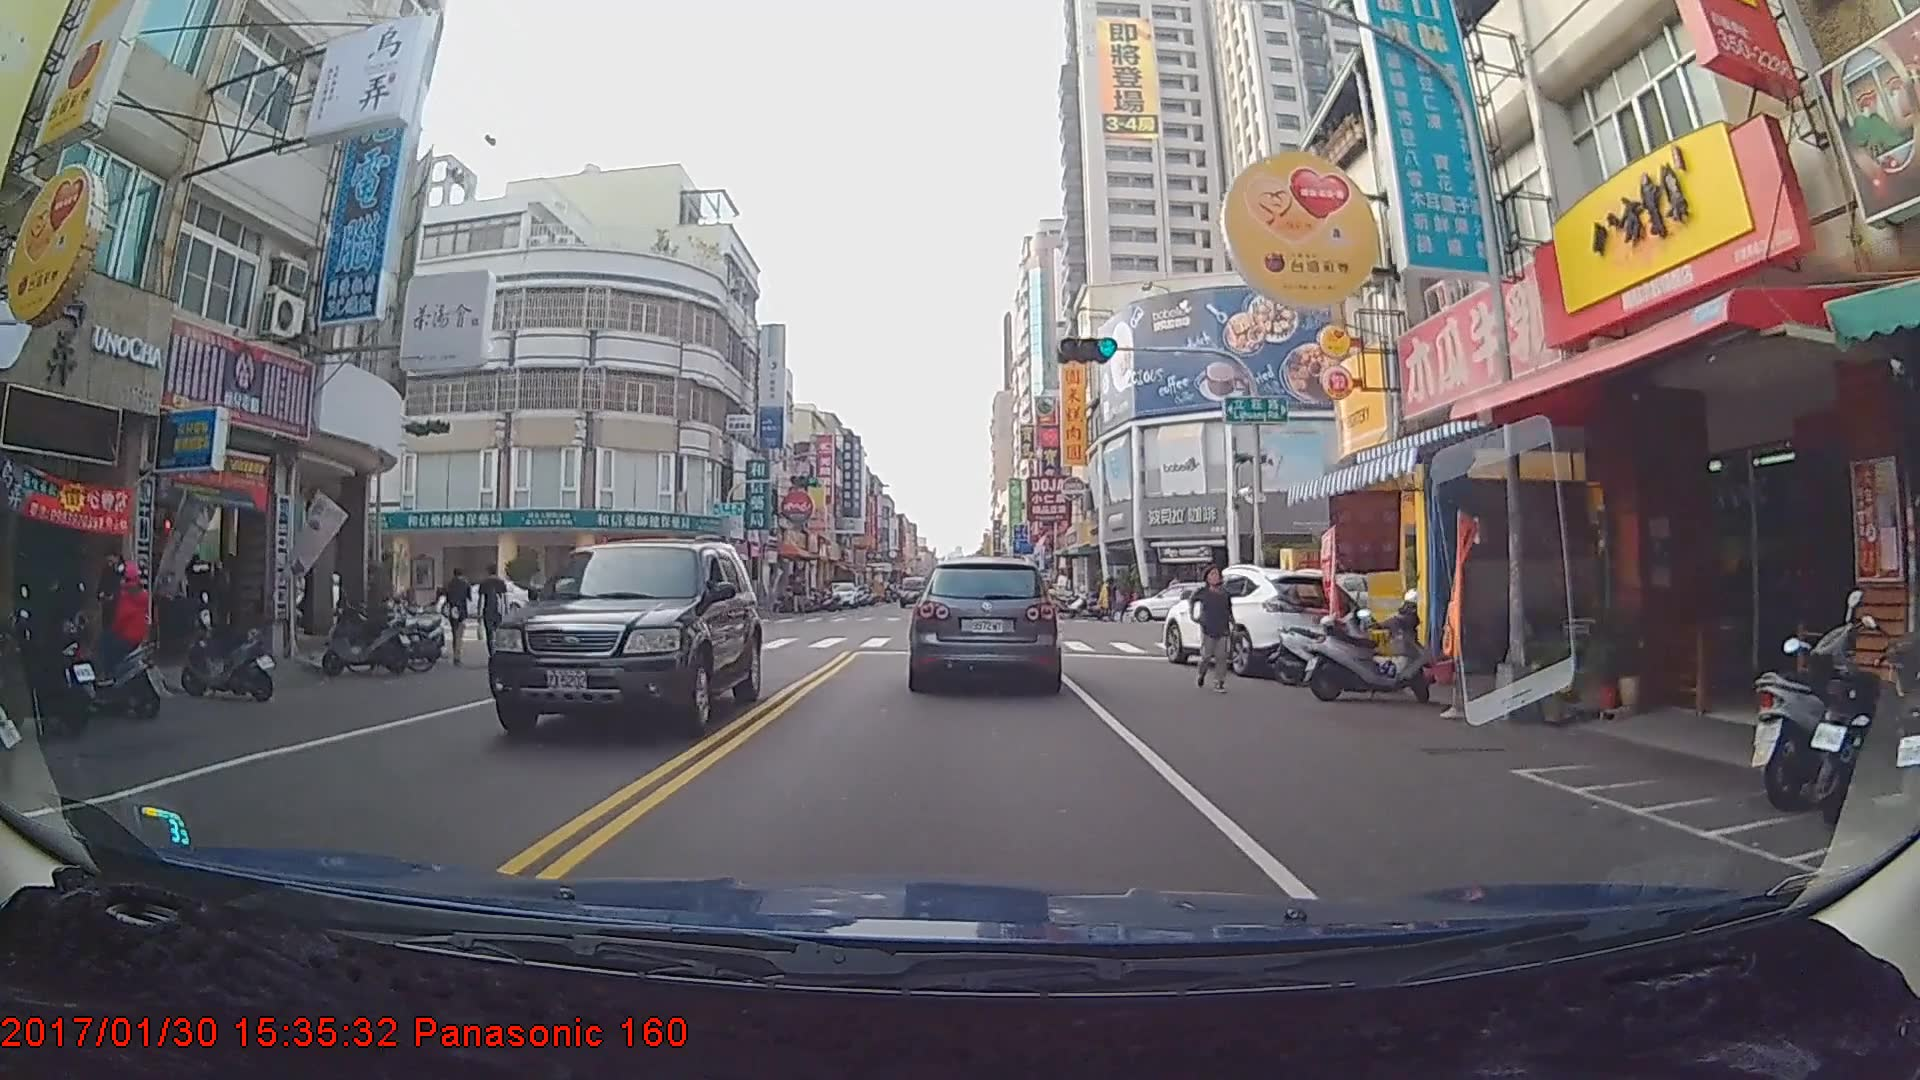pedestrian: (90, 542, 140, 684), (1193, 567, 1237, 696), (472, 560, 514, 661), (444, 568, 472, 666)
rider: (50, 561, 169, 718)
vehicle: (478, 538, 761, 742), (1161, 567, 1370, 678), (909, 555, 1059, 691), (1123, 582, 1243, 623), (824, 577, 859, 608), (897, 577, 928, 609)
